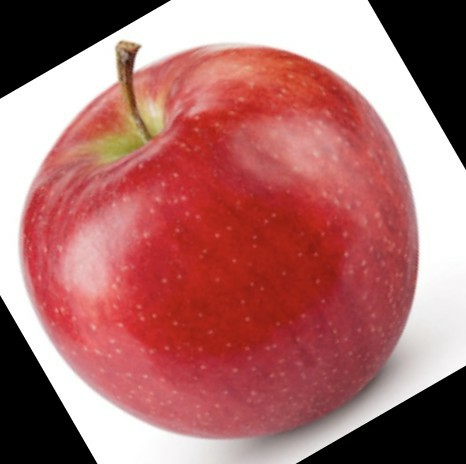fresh_apple: (24, 45, 422, 439)
